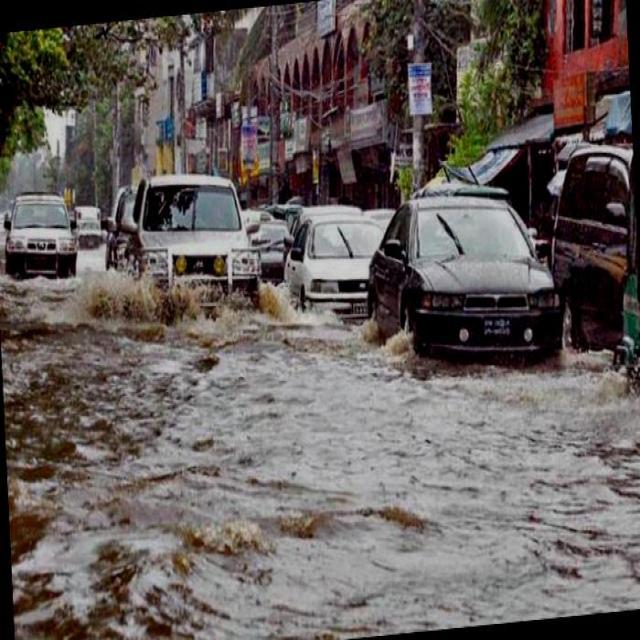flood: (0, 195, 639, 639)
